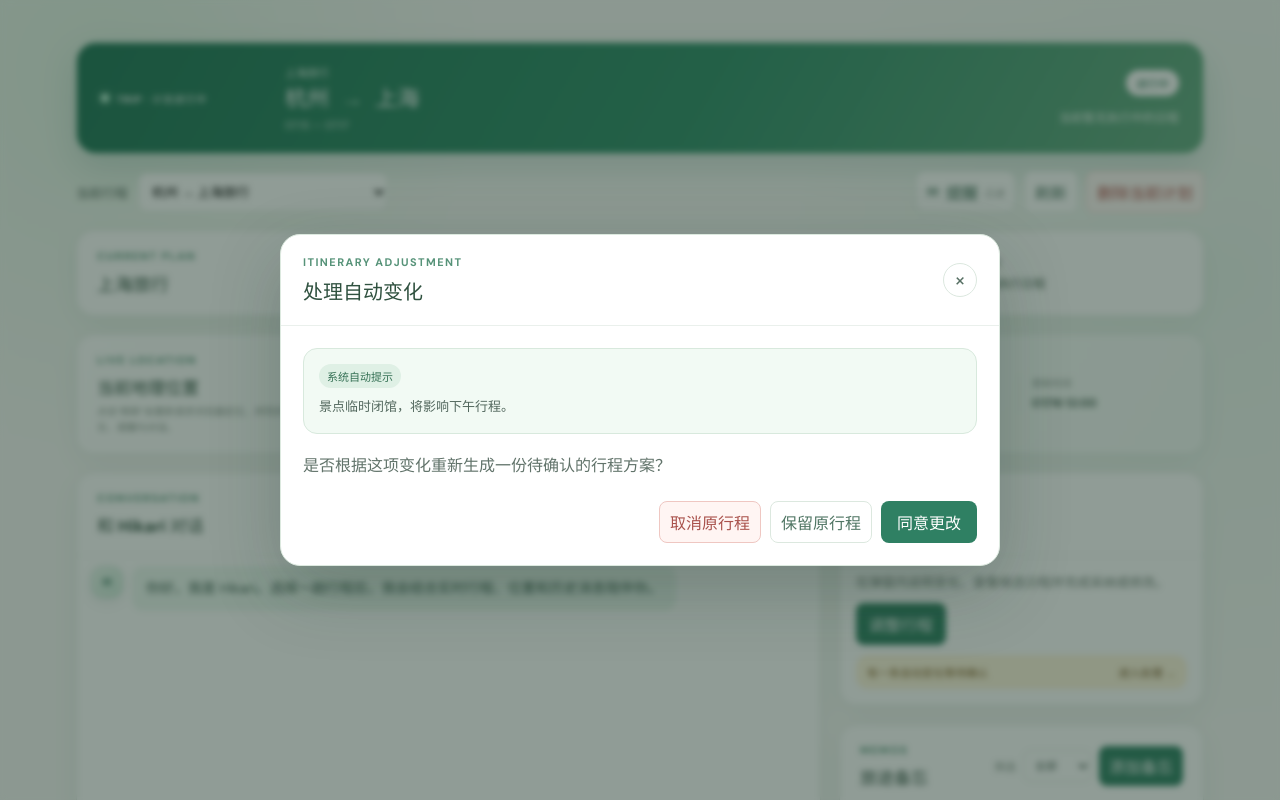
Test: Companion adjustment dialog › shows an ongoing automatic conflict as selected and locked
Click the button "同意更改". click: (929, 522)
box: x1=881 y1=501 x2=977 y2=543
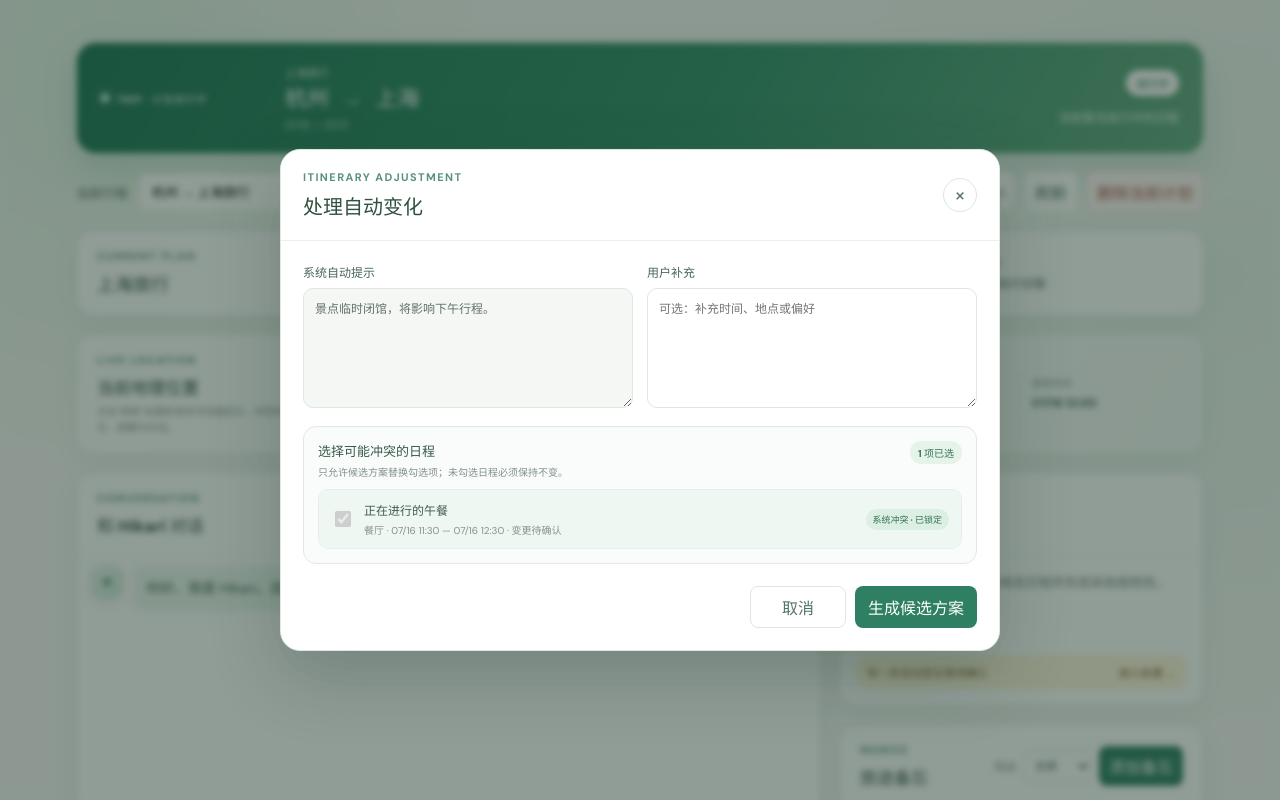
Expected: the label with class "conflict-choice" shows "正在进行的午餐", x1=364 y1=503 x2=448 y2=519
Expected: the label with class "conflict-choice" shows "变更待确认", x1=364 y1=524 x2=562 y2=537
Expected: the checkbox labelled "正在进行的午餐 餐厅 · 07/16 11:30 — 07/16 12:30 · 变更待确认 系统冲突 · 已锁定" is checked, x1=335 y1=511 x2=351 y2=527
